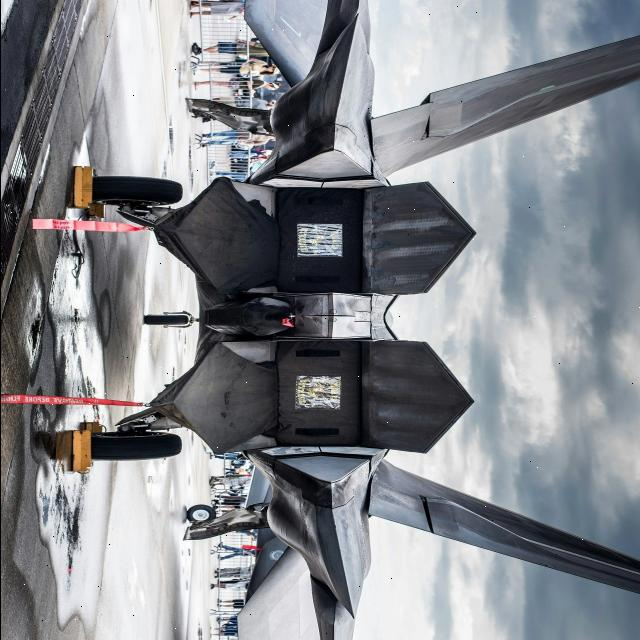F22: (54, 1, 640, 636)
